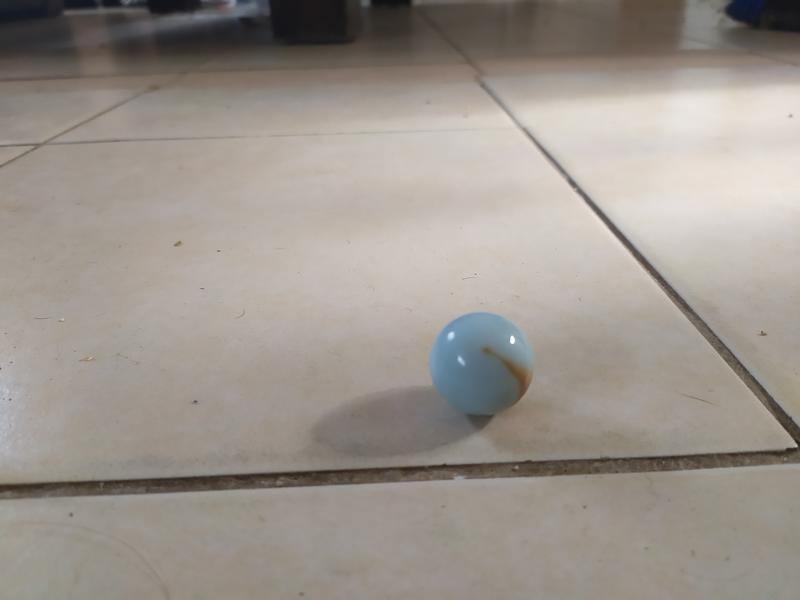Warning: (421, 309, 540, 418)
